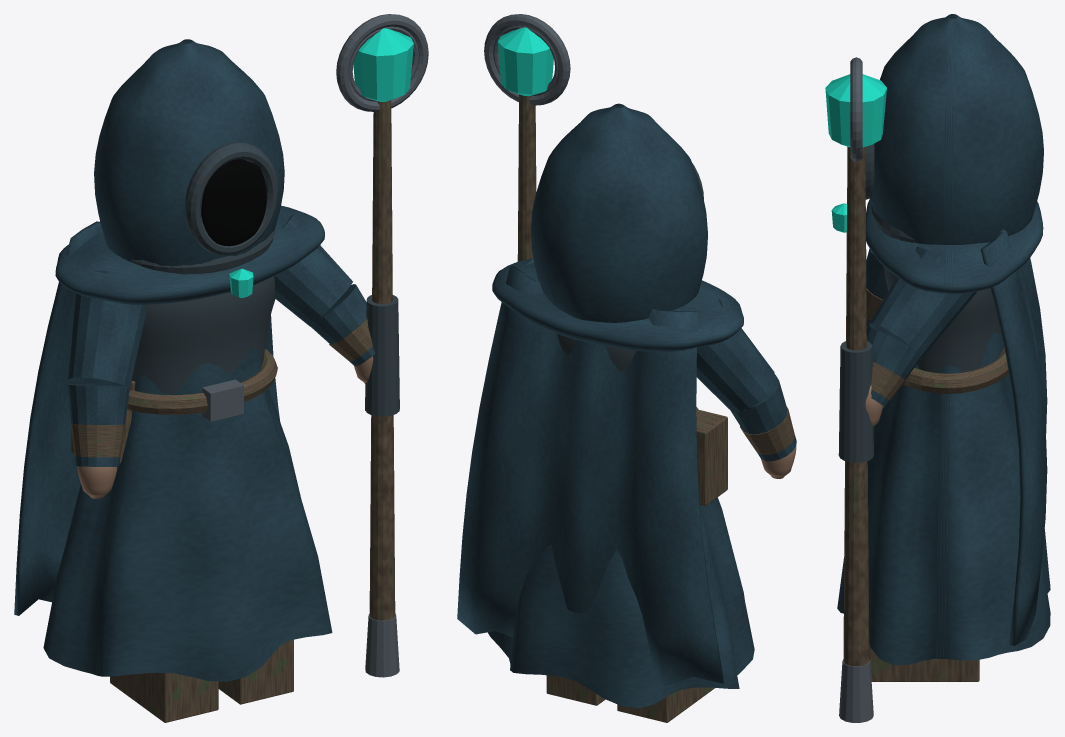
Rendered from detail_wayfinder.glb.
3 views of the same model, side by side, from view 1: azimuth 30°, elevation 25°; view 2: azimuth 150°, elevation 25°; view 3: azimuth 270°, elevation 25° (orthographic). The views are drawn at different scales.
Visible parts, largest first — view 1: FoldedTravelRobe, DrapedWayfinderHood, DrapedWayfinderCloak, AnatomicalWayfinderTorso, TailoredShoulderMantle, RunewoodStaff, UpperArm0, DeepHoodShadow, UpperArm1, HoodOpeningRim, TravelBoot-1, StaffGrip (+13 smaller); view 2: DrapedWayfinderCloak, DrapedWayfinderHood, FoldedTravelRobe, TailoredShoulderMantle, UpperArm0, FracturedStaffFocus, RunewoodStaff, PotionPouch, Torus.003, Forearm0, TravelBoot-1, LeatherBracer0 (+3 smaller); view 3: FoldedTravelRobe, DrapedWayfinderHood, DrapedWayfinderCloak, RunewoodStaff, TailoredShoulderMantle, UpperArm1, AnatomicalWayfinderTorso, StaffGrip, FracturedStaffFocus, TravelBoot1, LeatherBelt, IronFerrule (+8 smaller).
Boxes of the visible parts, x1,y1,x2,y2 form: FoldedTravelRobe: [43, 347, 332, 681]; DrapedWayfinderHood: [94, 39, 284, 266]; DrapedWayfinderCloak: [14, 221, 279, 615]; AnatomicalWayfinderTorso: [132, 276, 275, 395]; TailoredShoulderMantle: [55, 205, 324, 304]; RunewoodStaff: [369, 100, 395, 620]; UpperArm0: [68, 270, 145, 388]; DeepHoodShadow: [201, 159, 266, 246]; UpperArm1: [274, 215, 352, 326]; HoodOpeningRim: [185, 142, 278, 255]; TravelBoot-1: [110, 672, 218, 722]; StaffGrip: [365, 295, 399, 416]; DrapedWayfinderCloak: [457, 266, 723, 686]; DrapedWayfinderHood: [530, 103, 707, 322]; FoldedTravelRobe: [488, 497, 754, 708]; TailoredShoulderMantle: [492, 258, 743, 351]; UpperArm0: [696, 298, 775, 412]; FracturedStaffFocus: [497, 27, 553, 96]; RunewoodStaff: [517, 94, 536, 261]; PotionPouch: [696, 409, 727, 505]; Torus.003: [484, 14, 570, 105]; Forearm0: [730, 374, 796, 461]; TravelBoot-1: [617, 687, 714, 722]; LeatherBracer0: [740, 407, 794, 454]; FoldedTravelRobe: [837, 332, 1050, 665]; DrapedWayfinderHood: [870, 14, 1043, 244]; DrapedWayfinderCloak: [980, 229, 1047, 645]; RunewoodStaff: [843, 146, 869, 666]; TailoredShoulderMantle: [866, 198, 1043, 294]; UpperArm1: [869, 247, 976, 359]; AnatomicalWayfinderTorso: [883, 266, 1000, 372]; StaffGrip: [838, 341, 873, 462]; FracturedStaffFocus: [825, 74, 886, 147]; TravelBoot1: [869, 644, 979, 681]; LeatherBelt: [903, 345, 1008, 393]; IronFerrule: [839, 659, 873, 722].
Bounding box in the file's own units: 1.62 × 3.02 × 0.9326.
7 materials, 2 textured.
